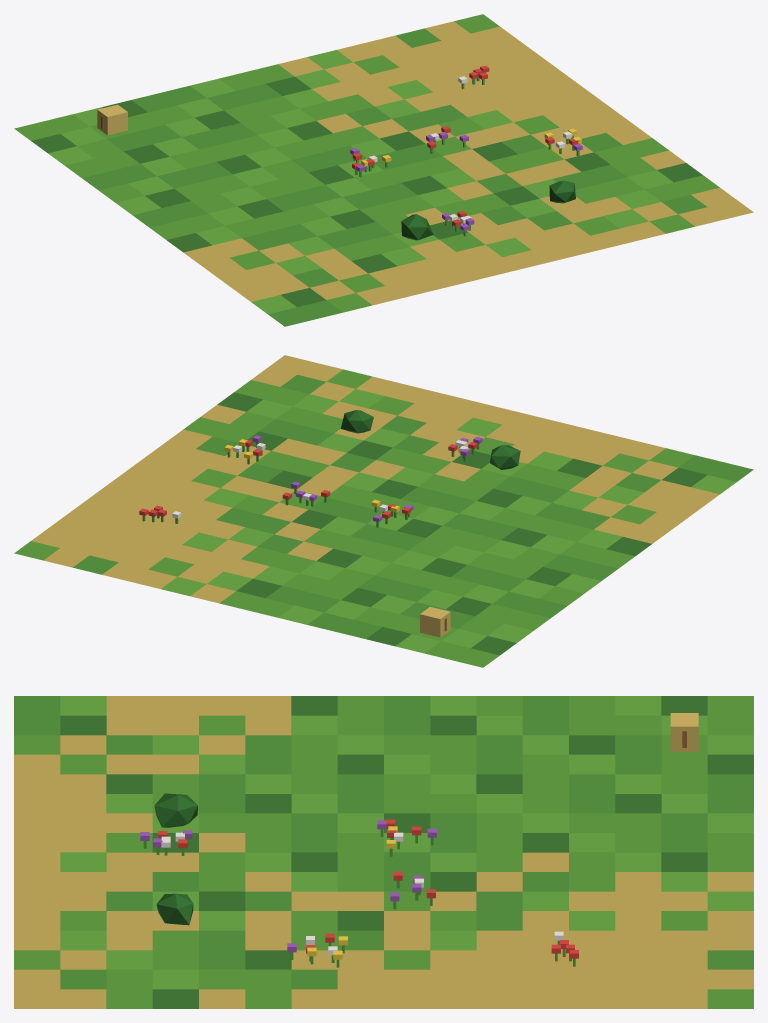
The model's file is chunk_10_8.glb.
3 views of the same model, one above another, from view 1: azimuth 30°, elevation 25°; view 2: azimuth 150°, elevation 25°; view 3: azimuth 270°, elevation 25° (orthographic). The views are drawn at different scales.
Visible parts, largest first — view 1: chunk_10_8; view 2: chunk_10_8; view 3: chunk_10_8.
Part boxes in pixels (x1,y1,x2,y2): chunk_10_8: (14,14,753,326); chunk_10_8: (14,355,753,667); chunk_10_8: (14,696,753,1008).
Size of the model in its own units: 16 by 0.8429 by 16.
